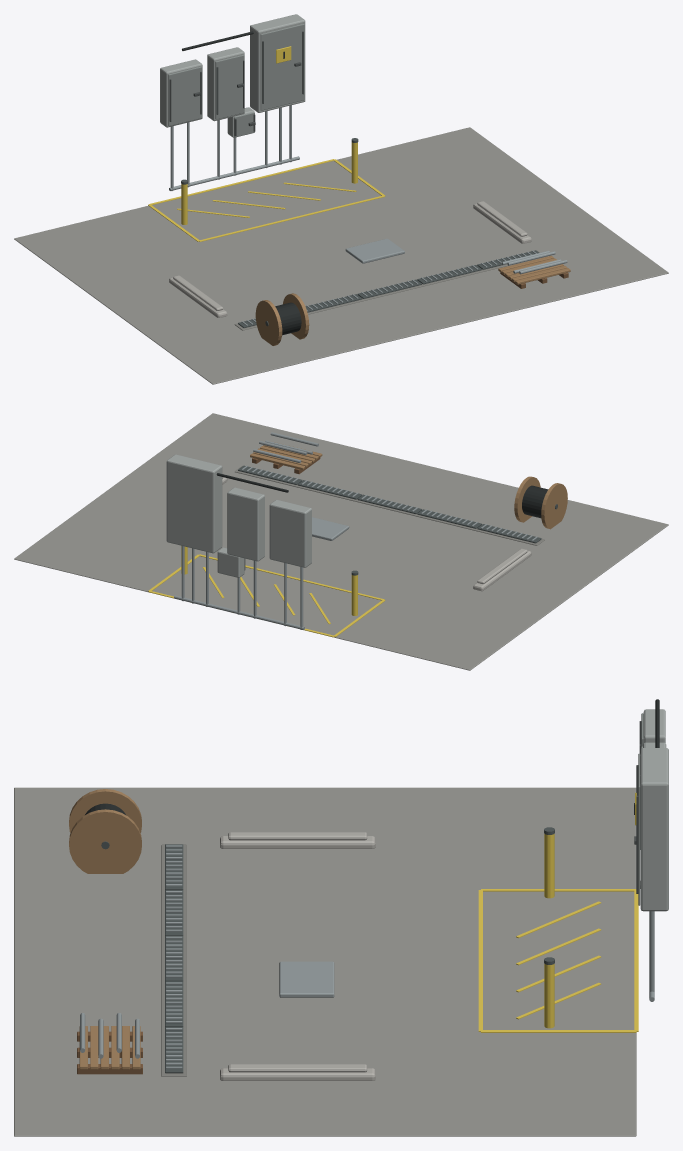
The model's file is electrical-area.glb.
3 views of the same model, one above another, from view 1: azimuth 30°, elevation 25°; view 2: azimuth 150°, elevation 25°; view 3: azimuth 270°, elevation 25° (orthographic). The views are drawn at different scales.
Visible parts, largest first — view 1: SY_SLAB, EP_C_DOOR, EP_C, EP_A_DOOR, EP_B_DOOR, SY_REEL_L_FLANGE, EP_A, EP_B, SY_UTILITY_COVER, SY_REEL_CABLE; view 2: SY_SLAB, EP_C, EP_A, EP_B, SY_REEL_L_FLANGE, EP_JB, SY_REEL_CABLE, SY_UTILITY_COVER, EP_CONDUIT_BUS, SY_REEL_R_FLANGE, SY_STOP_L_BASE, SY_STOP_L_TOP; view 3: SY_SLAB, EP_C, SY_REEL_R_FLANGE, SY_UTILITY_COVER, SY_STOP_L_BASE, SY_STOP_R_BASE, SY_REEL_L_FLANGE, SY_STOP_R_TOP, SY_STOP_L_TOP, SY_CLEAR_BORDER_S, SY_BOLLARD_L_POST, SY_BOLLARD_R_POST (+2 smaller).
Part boxes in pixels (x1,y1,x2,y2): SY_SLAB: [14, 127, 668, 384]; EP_C_DOOR: [260, 24, 304, 110]; EP_C: [250, 14, 305, 112]; EP_A_DOOR: [168, 66, 201, 126]; EP_B_DOOR: [215, 54, 244, 119]; SY_REEL_L_FLANGE: [255, 300, 282, 345]; EP_A: [160, 59, 202, 127]; EP_B: [207, 47, 244, 121]; SY_UTILITY_COVER: [345, 238, 404, 263]; SY_REEL_CABLE: [275, 302, 301, 335]; SY_SLAB: [14, 413, 668, 670]; EP_C: [166, 454, 222, 553]; EP_A: [269, 499, 311, 567]; EP_B: [227, 487, 264, 561]; SY_REEL_L_FLANGE: [541, 483, 567, 529]; EP_JB: [217, 547, 244, 577]; SY_REEL_CABLE: [522, 485, 548, 518]; SY_UTILITY_COVER: [312, 517, 349, 540]; EP_CONDUIT_BUS: [174, 595, 304, 629]; SY_REEL_R_FLANGE: [514, 476, 540, 522]; SY_STOP_L_BASE: [473, 550, 531, 591]; SY_STOP_L_TOP: [477, 548, 527, 583]; SY_SLAB: [14, 787, 636, 1136]; EP_C: [640, 748, 668, 911]; SY_REEL_R_FLANGE: [69, 809, 141, 873]; SY_UTILITY_COVER: [279, 961, 334, 997]; SY_STOP_L_BASE: [220, 836, 375, 848]; SY_STOP_R_BASE: [220, 1068, 375, 1080]; SY_REEL_L_FLANGE: [69, 789, 141, 833]; SY_STOP_R_TOP: [228, 1064, 367, 1072]; SY_STOP_L_TOP: [228, 832, 367, 840]; SY_CLEAR_BORDER_S: [478, 890, 482, 1031]; SY_BOLLARD_L_POST: [544, 834, 554, 898]; SY_BOLLARD_R_POST: [544, 964, 554, 1028].
Size of what is drawn, in the model's own units: 9 by 2.79 by 7.16.
